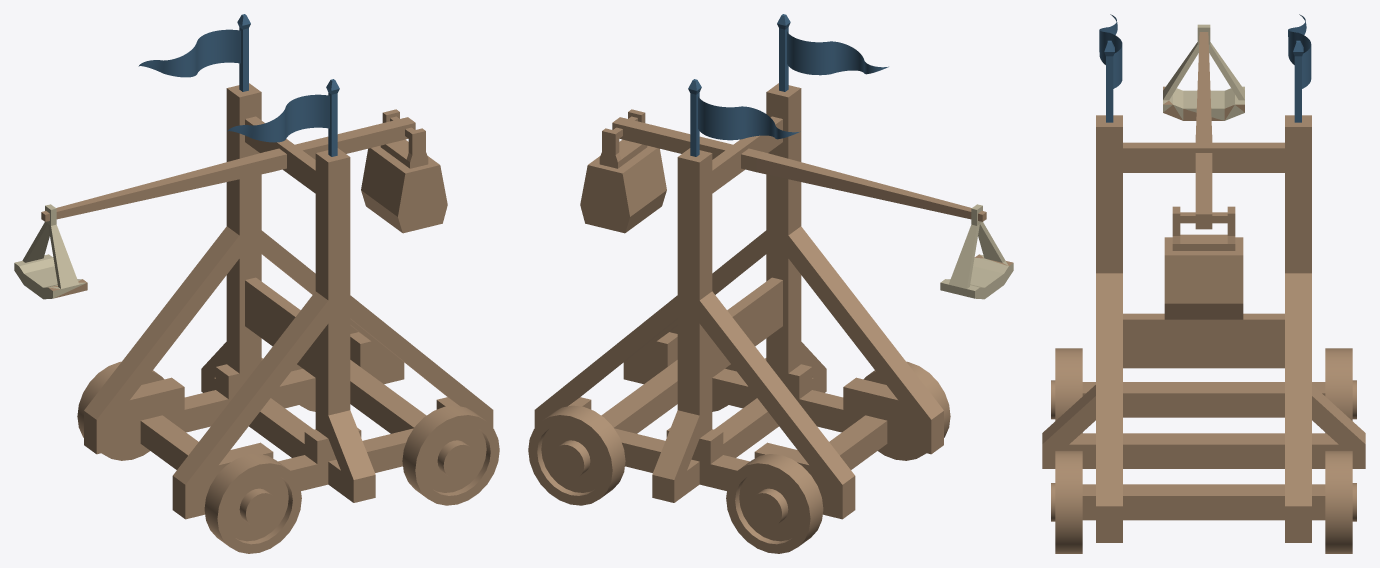
File: artillery.glb
3 renders of one model, left to right at view 1: azimuth 30°, elevation 25°; view 2: azimuth 150°, elevation 25°; view 3: azimuth 270°, elevation 25°, orthographic. The views are drawn at different scales.
Bounding box in the file's own units: 19.5 × 19.59 × 12.58.
